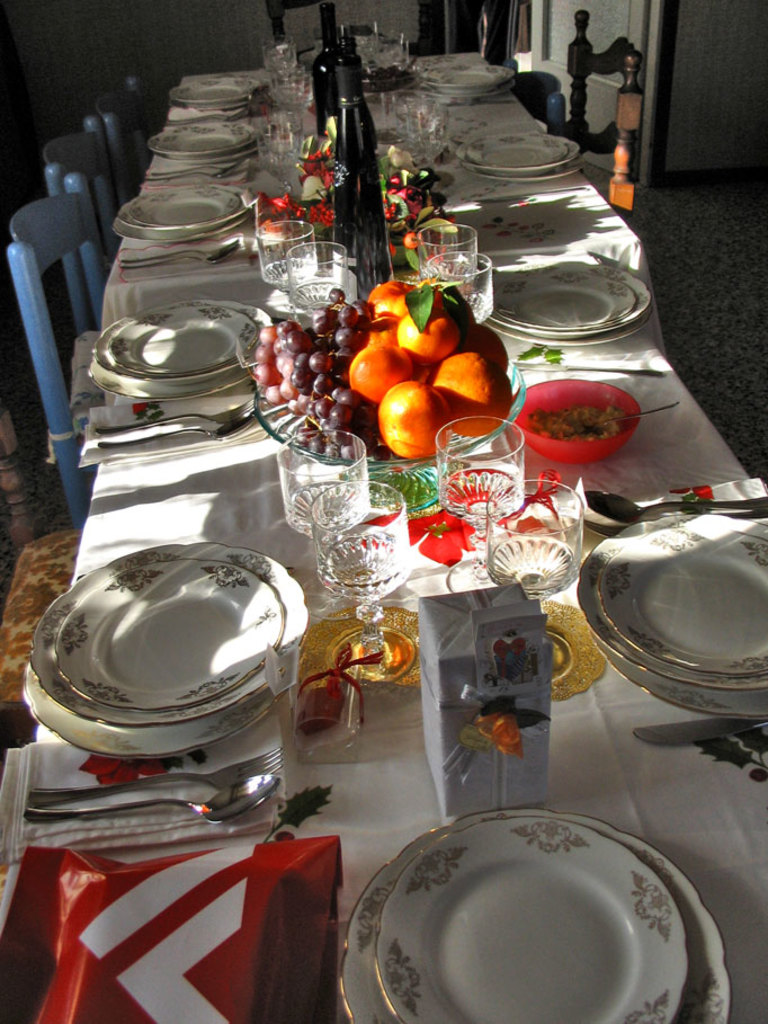plate: (376, 821, 690, 1010)
